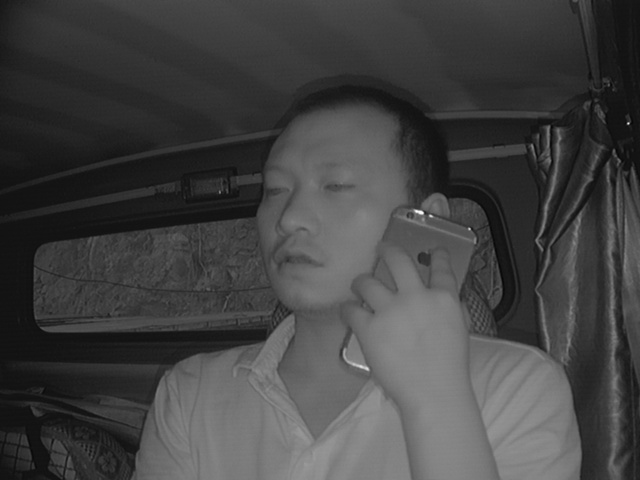hand: (354, 247, 475, 401)
